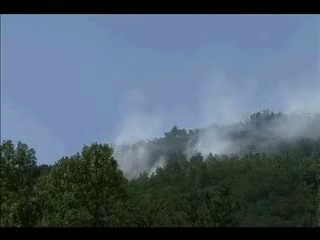smoke: (187, 66, 319, 165), (115, 116, 187, 181)
